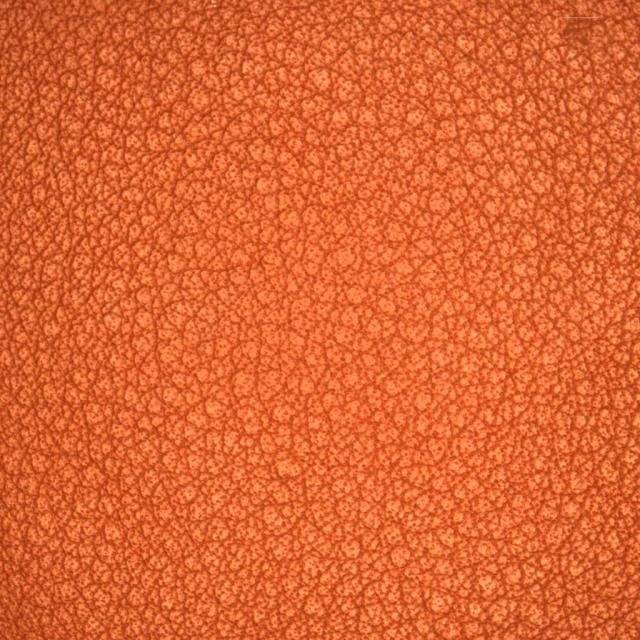Healed Injury: (526, 10, 620, 114)
